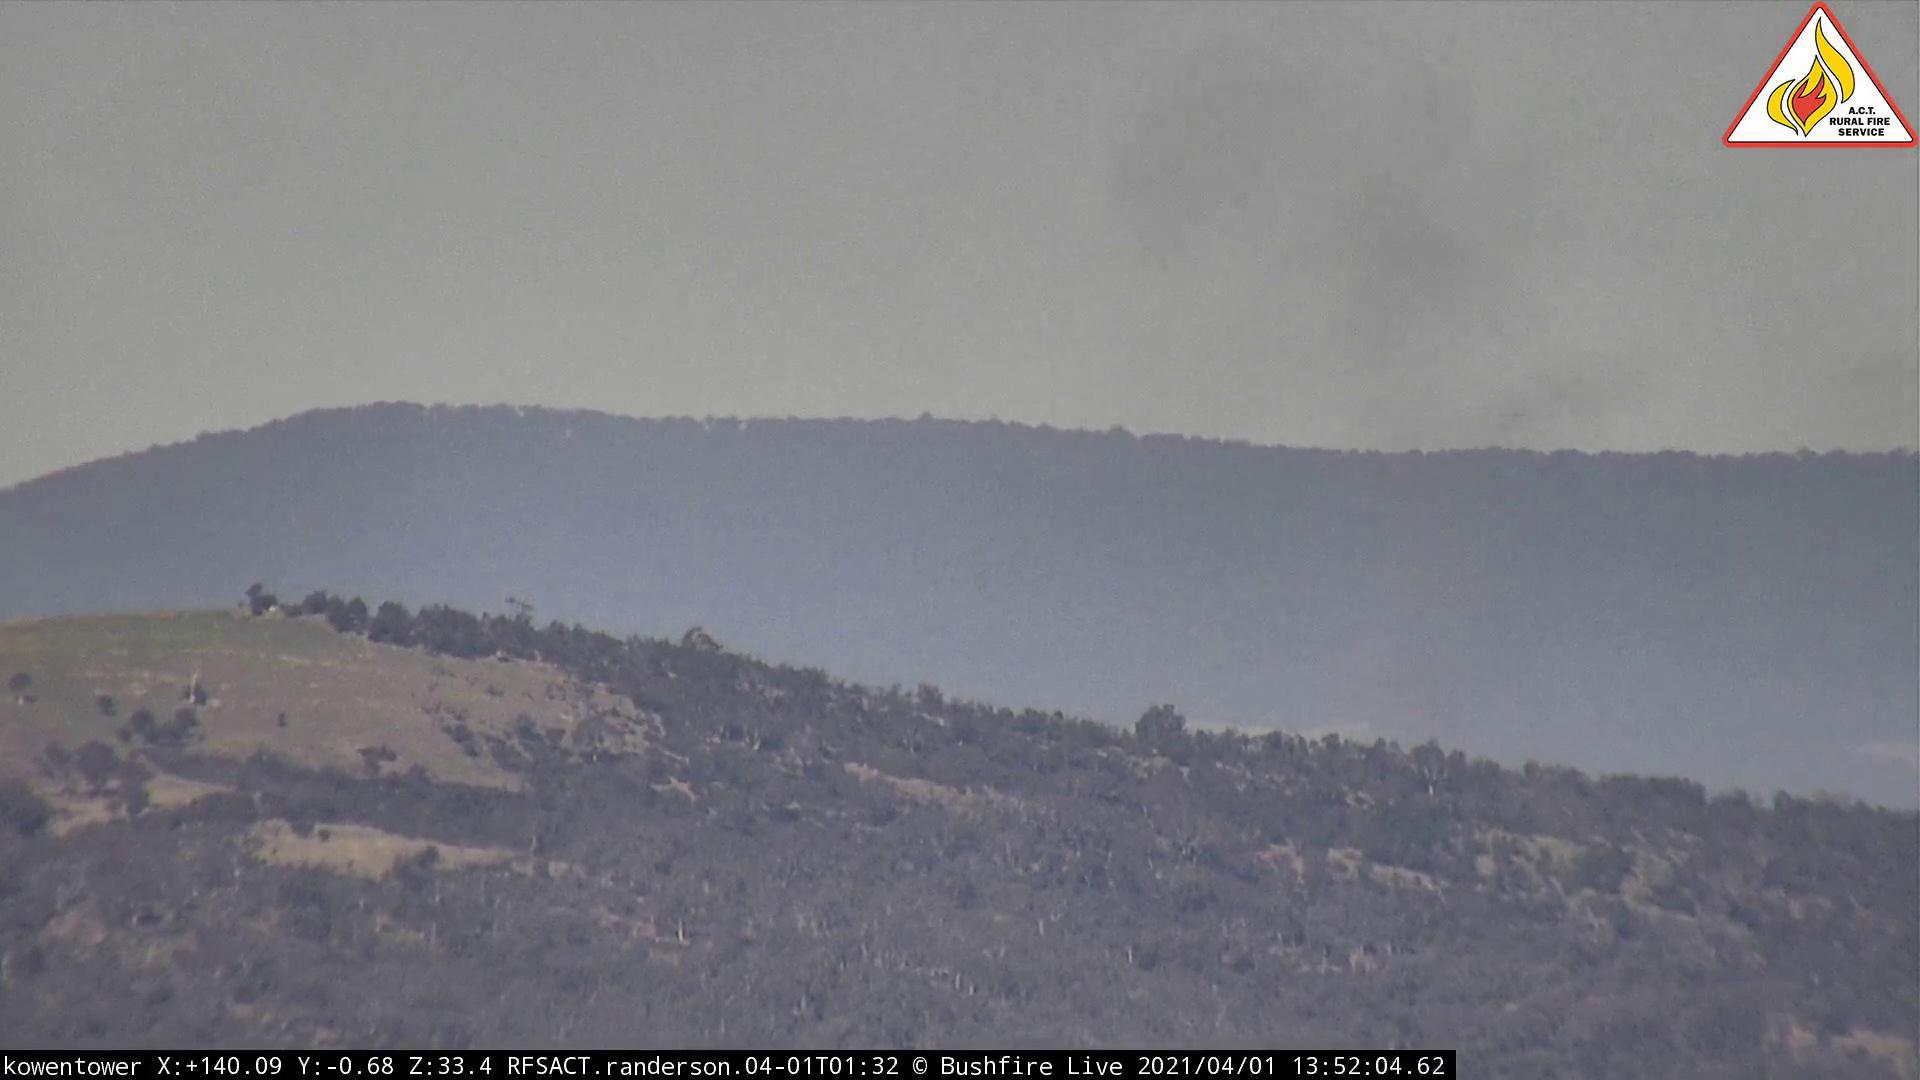Smoke: (1068, 3, 1679, 761)
